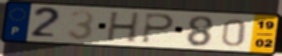0: (220, 18, 250, 47)
2: (29, 6, 65, 42)
3: (65, 8, 97, 42)
8: (186, 14, 216, 47)
H: (104, 11, 143, 44)
P: (140, 12, 177, 45)
